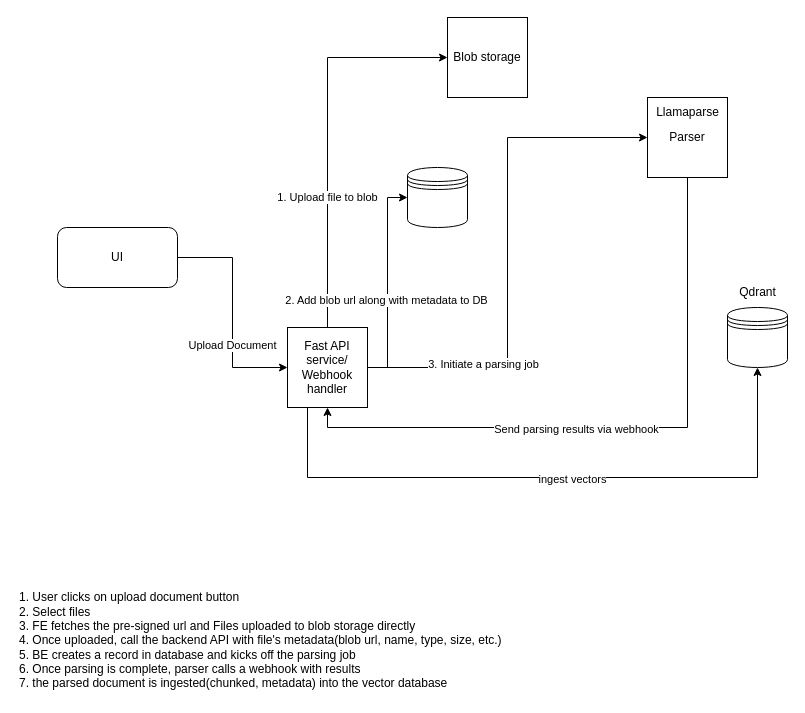
Some shapes in this 805 by 713 pixel diagram are drawn without their labels. The centre of each missing label's shape, as x and y in pixels:
"DB" belongs at point 437,197.
"vector DB" belongs at point 757,337.
